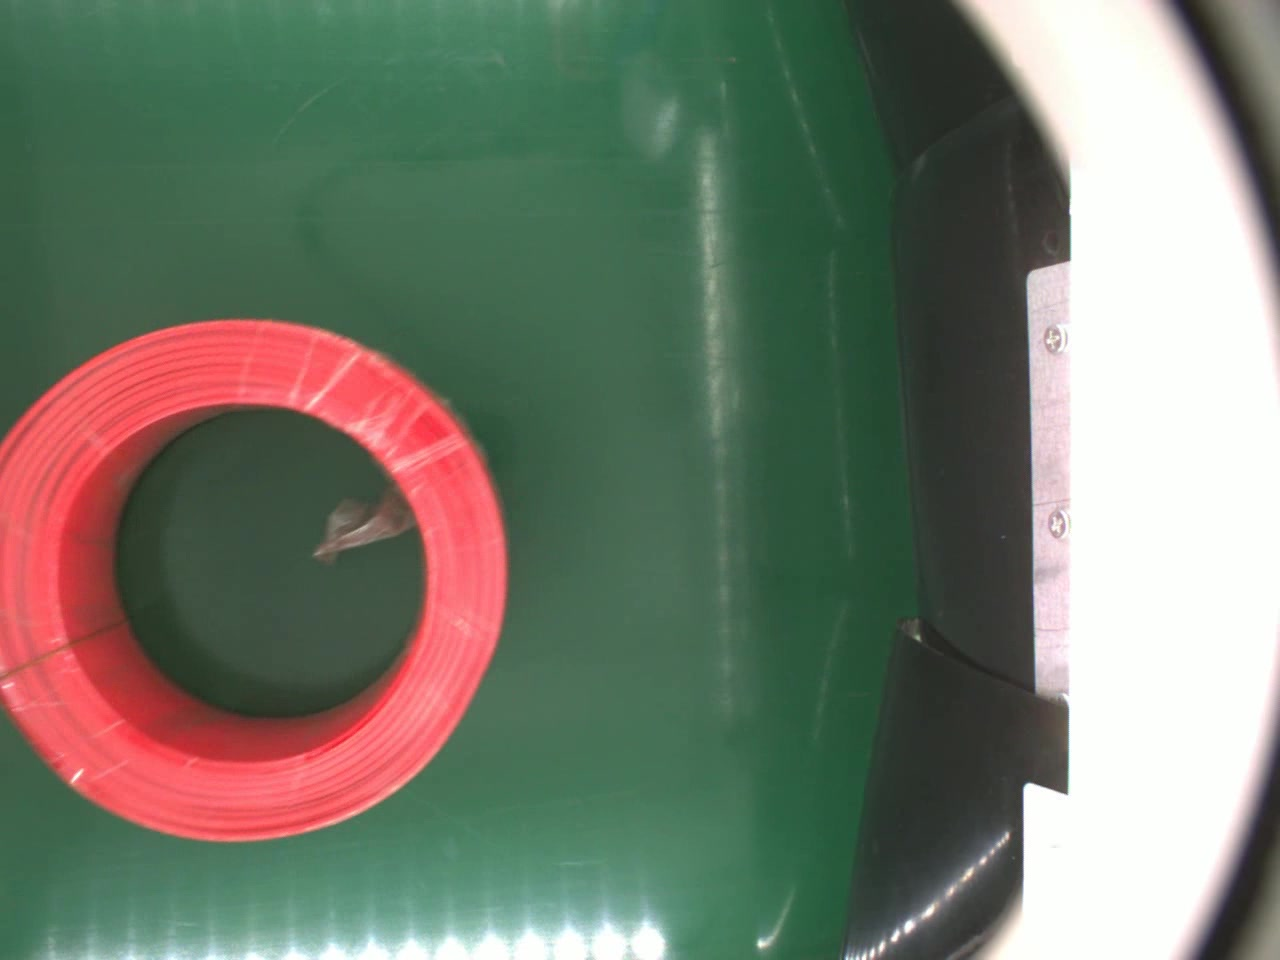red: (0, 313, 509, 843)
